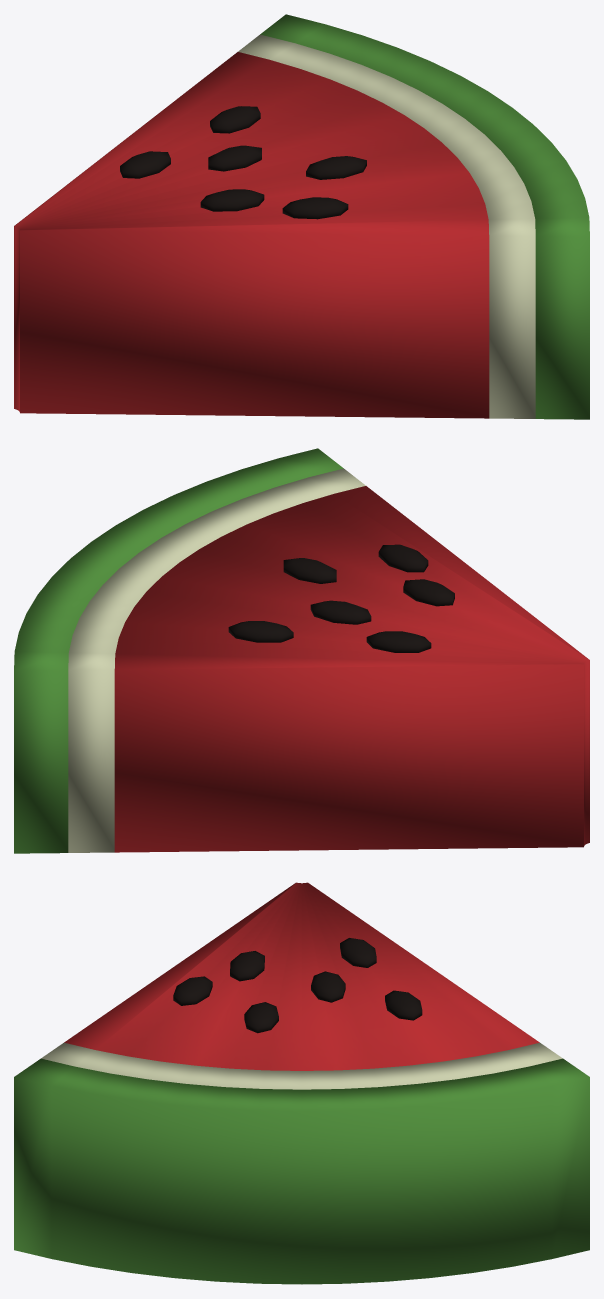
File: Watermelon.glb
3 renders of one model, top to bottom at view 1: azimuth 30°, elevation 25°; view 2: azimuth 150°, elevation 25°; view 3: azimuth 270°, elevation 25°, orthographic. The views are drawn at different scales.
Parts seen in each view (by area): view 1: Flesh, Rind, WhiteRind, MelonSeeds; view 2: Flesh, Rind, WhiteRind, MelonSeeds; view 3: Rind, Flesh, WhiteRind, MelonSeeds.
Part boxes in pixels (box(x1,y1,x2,y2)): Flesh: box(14, 52, 489, 418); Rind: box(260, 14, 589, 419); WhiteRind: box(238, 34, 535, 418); MelonSeeds: box(120, 106, 366, 219); Flesh: box(114, 486, 589, 852); Rind: box(14, 448, 343, 853); WhiteRind: box(68, 468, 365, 852); MelonSeeds: box(228, 544, 454, 652); Rind: box(14, 1058, 589, 1284); Flesh: box(64, 882, 539, 1070); WhiteRind: box(41, 1042, 562, 1089); MelonSeeds: box(173, 938, 422, 1033).
Bounding box in the file's own units: 0.0737 × 0.0292 × 0.0784.
